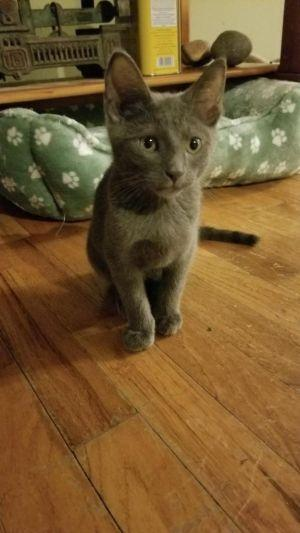rblue: (96, 54, 230, 210)
